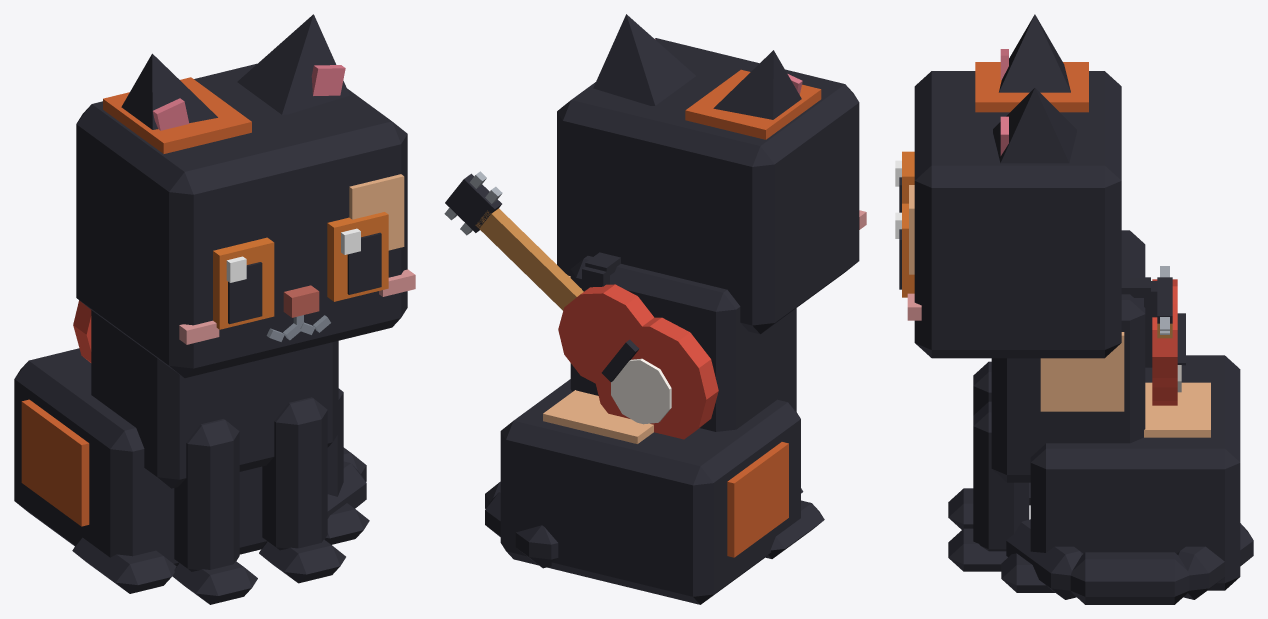
Rendered from CatCafe_Cat_Tortie_Sit.fbx.
3 renders of one model, left to right at view 1: azimuth 30°, elevation 25°; view 2: azimuth 150°, elevation 25°; view 3: azimuth 270°, elevation 25°, orthographic. The views are drawn at different scales.
Visible parts, largest first — view 1: CatCafe_Cat_Tortie_Sit_Head, CatCafe_Cat_Tortie_Sit_Body, CatCafe_Cat_Tortie_Sit_LegF1, CatCafe_Cat_Tortie_Sit_LegF2, CatCafe_Cat_Tortie_Sit_EarL, CatCafe_Cat_Tortie_Sit_Eye2, CatCafe_Cat_Tortie_Sit_Eye1, CatCafe_Cat_Tortie_Sit_EarR, CatCafe_Cat_Tortie_Sit_Tail, CatCafe_Cat_Tortie_Sit_Prop; view 2: CatCafe_Cat_Tortie_Sit_Body, CatCafe_Cat_Tortie_Sit_Head, CatCafe_Cat_Tortie_Sit_Prop, CatCafe_Cat_Tortie_Sit_EarL, CatCafe_Cat_Tortie_Sit_EarR, CatCafe_Cat_Tortie_Sit_Tail; view 3: CatCafe_Cat_Tortie_Sit_Head, CatCafe_Cat_Tortie_Sit_Body, CatCafe_Cat_Tortie_Sit_Tail, CatCafe_Cat_Tortie_Sit_LegF1, CatCafe_Cat_Tortie_Sit_Prop, CatCafe_Cat_Tortie_Sit_EarL, CatCafe_Cat_Tortie_Sit_EarR, CatCafe_Cat_Tortie_Sit_LegF2, CatCafe_Cat_Tortie_Sit_Eye1, CatCafe_Cat_Tortie_Sit_Eye2.
Boxes of the visible parts, bbox=[...] form: CatCafe_Cat_Tortie_Sit_Head: bbox=[76, 63, 415, 378]; CatCafe_Cat_Tortie_Sit_Body: bbox=[14, 310, 369, 593]; CatCafe_Cat_Tortie_Sit_LegF1: bbox=[259, 397, 345, 583]; CatCafe_Cat_Tortie_Sit_LegF2: bbox=[172, 419, 257, 604]; CatCafe_Cat_Tortie_Sit_EarL: bbox=[237, 14, 349, 114]; CatCafe_Cat_Tortie_Sit_Eye2: bbox=[213, 237, 274, 329]; CatCafe_Cat_Tortie_Sit_Eye1: bbox=[327, 212, 388, 301]; CatCafe_Cat_Tortie_Sit_EarR: bbox=[121, 53, 217, 130]; CatCafe_Cat_Tortie_Sit_Tail: bbox=[327, 447, 366, 518]; CatCafe_Cat_Tortie_Sit_Prop: bbox=[73, 300, 91, 362]; CatCafe_Cat_Tortie_Sit_Body: bbox=[500, 256, 824, 604]; CatCafe_Cat_Tortie_Sit_Head: bbox=[557, 38, 866, 334]; CatCafe_Cat_Tortie_Sit_Prop: bbox=[444, 171, 718, 439]; CatCafe_Cat_Tortie_Sit_EarL: bbox=[593, 14, 695, 105]; CatCafe_Cat_Tortie_Sit_EarR: bbox=[713, 50, 802, 119]; CatCafe_Cat_Tortie_Sit_Tail: bbox=[485, 481, 558, 568]; CatCafe_Cat_Tortie_Sit_Head: bbox=[907, 62, 1121, 358]; CatCafe_Cat_Tortie_Sit_Body: bbox=[991, 230, 1240, 592]; CatCafe_Cat_Tortie_Sit_Tail: bbox=[1006, 519, 1253, 604]; CatCafe_Cat_Tortie_Sit_LegF1: bbox=[948, 401, 1029, 571]; CatCafe_Cat_Tortie_Sit_Prop: bbox=[1121, 266, 1185, 405]; CatCafe_Cat_Tortie_Sit_EarL: bbox=[993, 88, 1076, 163]; CatCafe_Cat_Tortie_Sit_EarR: bbox=[999, 14, 1070, 92]; CatCafe_Cat_Tortie_Sit_LegF2: bbox=[948, 361, 991, 529]; CatCafe_Cat_Tortie_Sit_Eye1: bbox=[895, 203, 914, 297]; CatCafe_Cat_Tortie_Sit_Eye2: bbox=[895, 151, 914, 212].
Bounding box in the file's own units: 1.23 × 1.85 × 1.22.
1 material, 1 textured.
